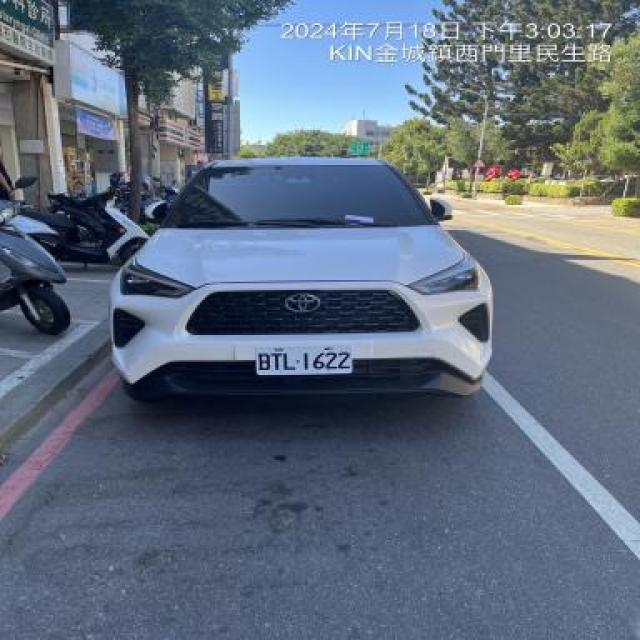Legalparking: (36, 94, 552, 434)
